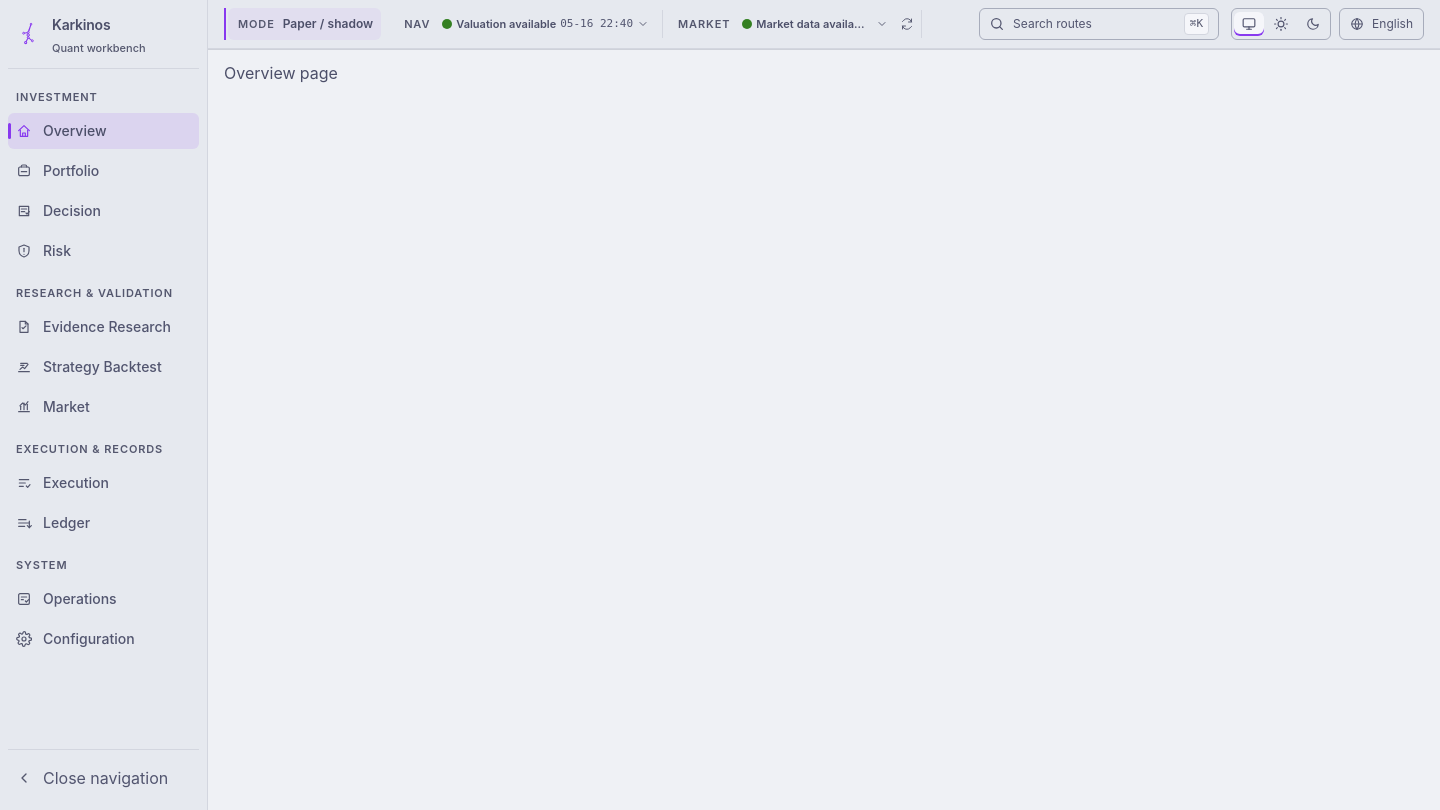
Test: switches interface language from english to chinese
Click the button with aria-label "Language" at (1382, 24), box [1339, 8, 1424, 40]
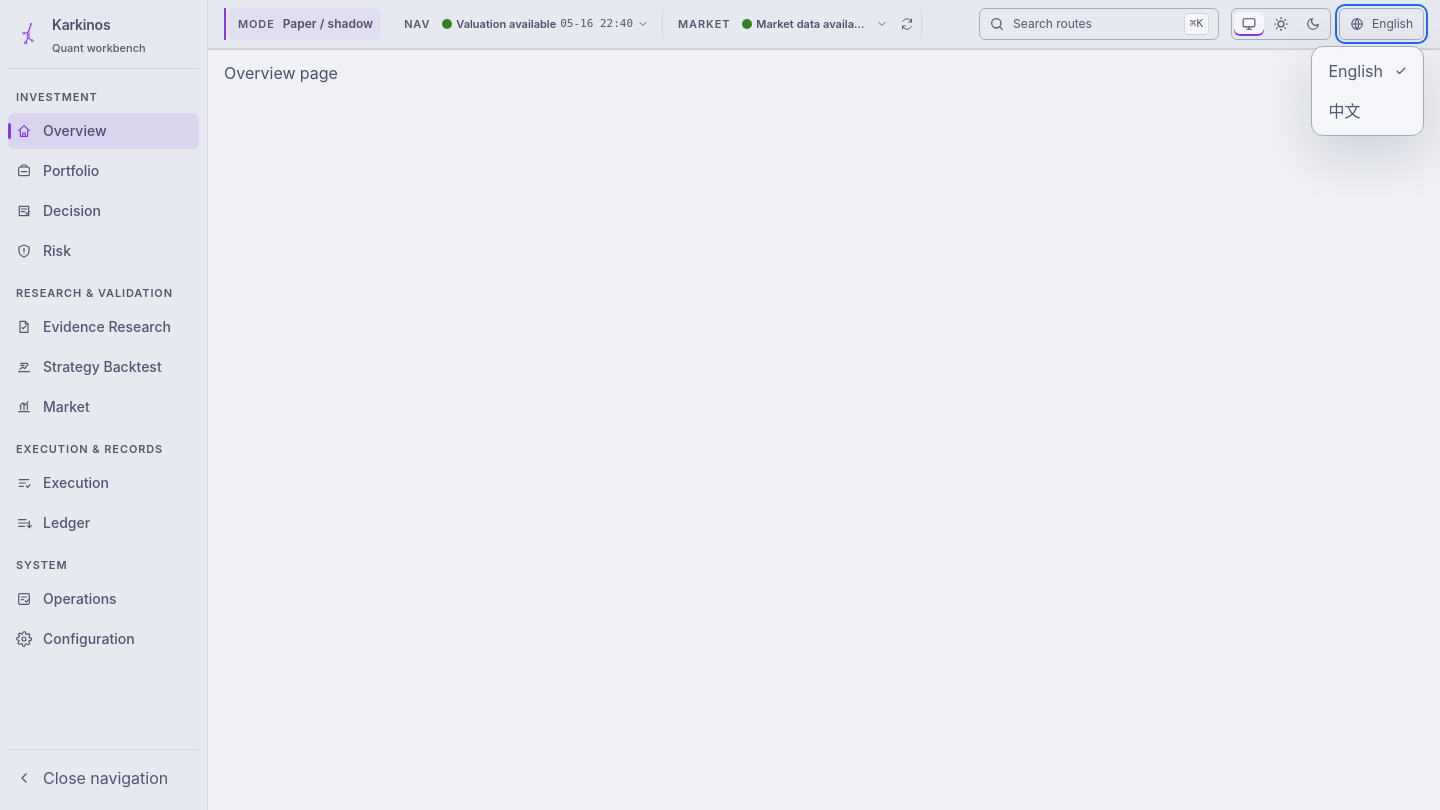
Click the menu item "中文" at (1368, 111), box [1316, 91, 1419, 131]
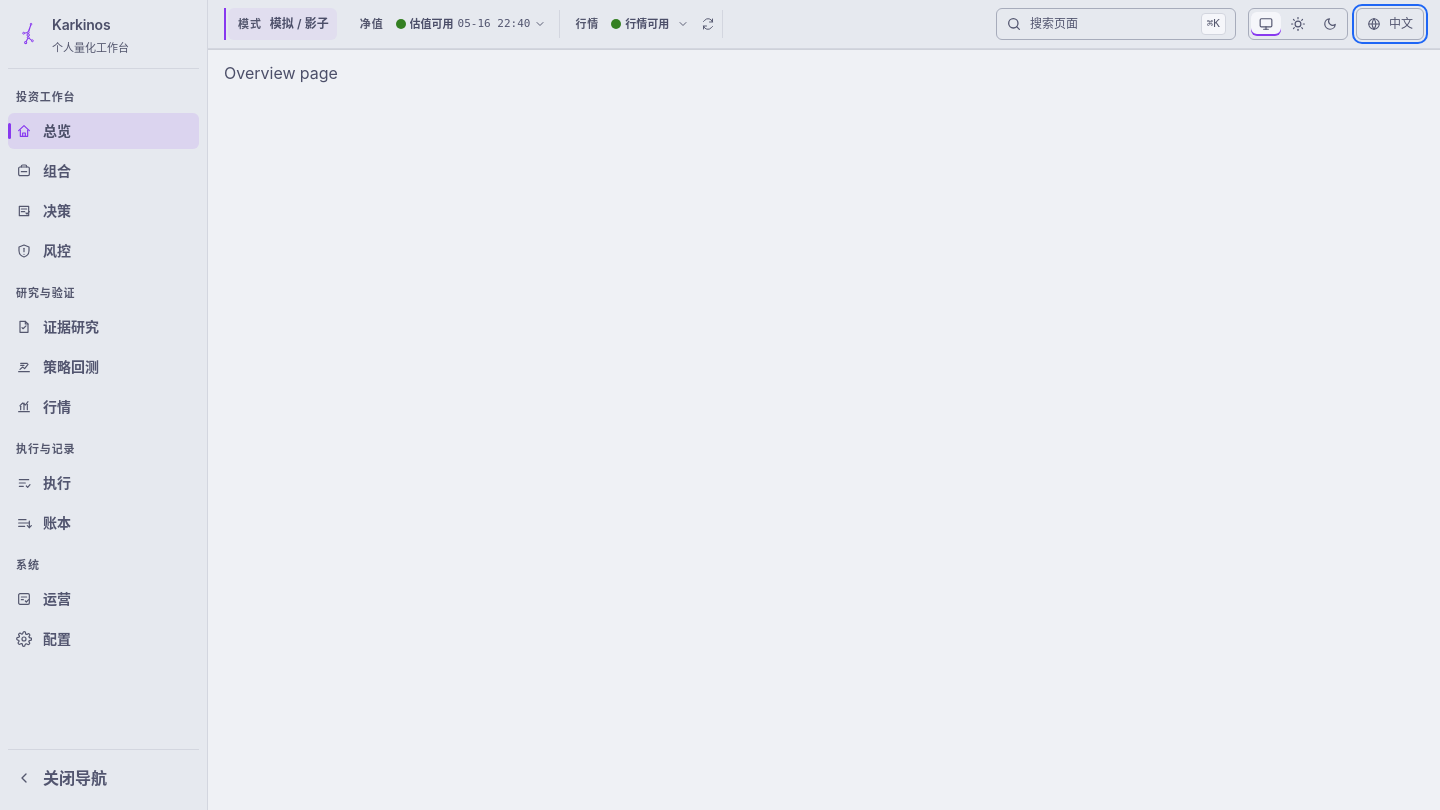
Result: the text "总览" is shown at [43, 121, 71, 141]
Result: the text "组合" is shown at [43, 161, 71, 181]
Result: the text "账本" is shown at [43, 513, 71, 533]
